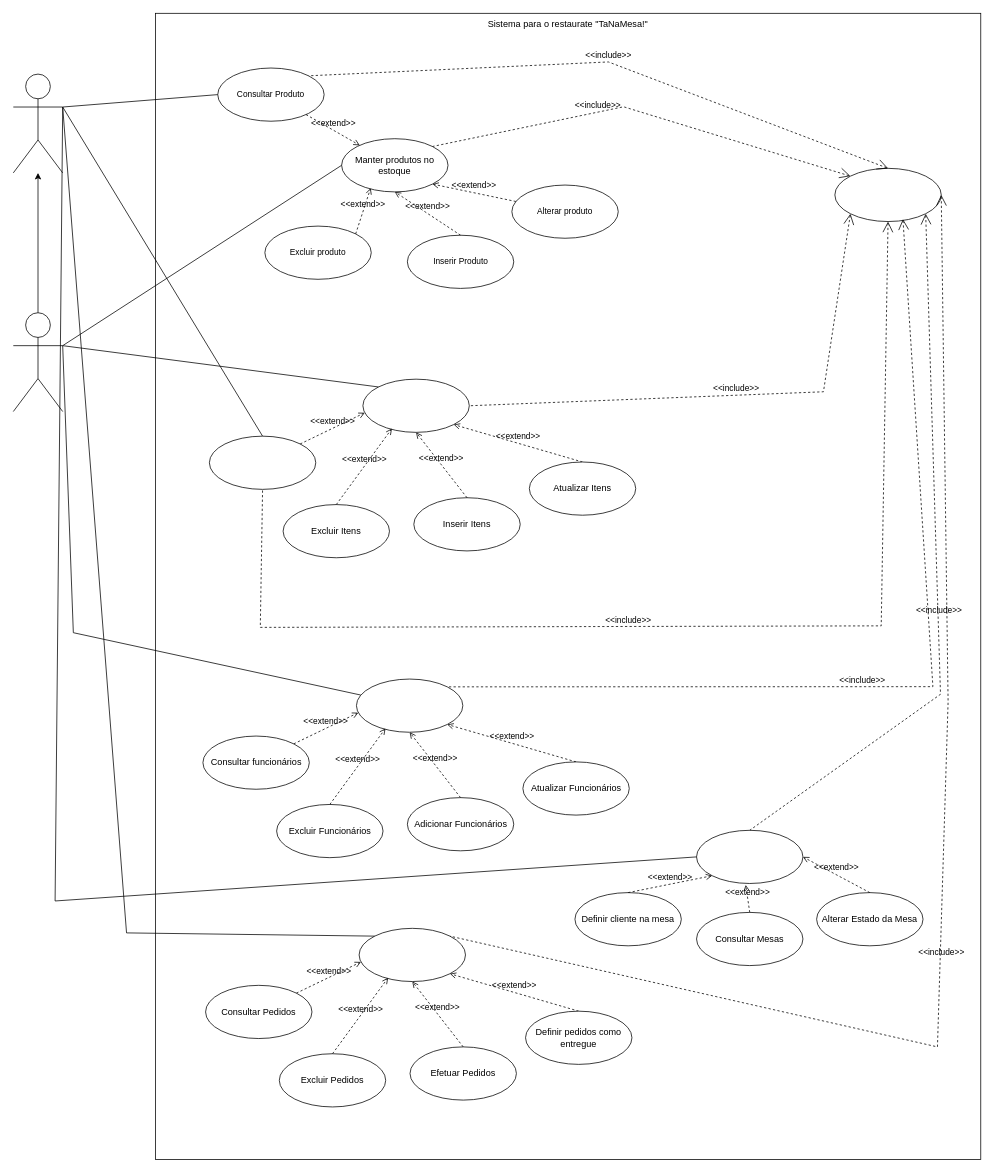
This 994x1173 diagram has some shape labels left out. Each missing label, with the centre of its shape:
"Autenticar Funcionário" goes at pixel 887 195.
"Consultar Itens" goes at pixel 262 462.
"Controlar Mesas" goes at pixel 749 857.
"Funcionario" goes at pixel 38 123.
"Gerente" goes at pixel 38 362.
"Manter funcionários" goes at pixel 409 705.
"Manter itens do cardápio" goes at pixel 415 405.
"Manter Pedidos" goes at pixel 412 955.
